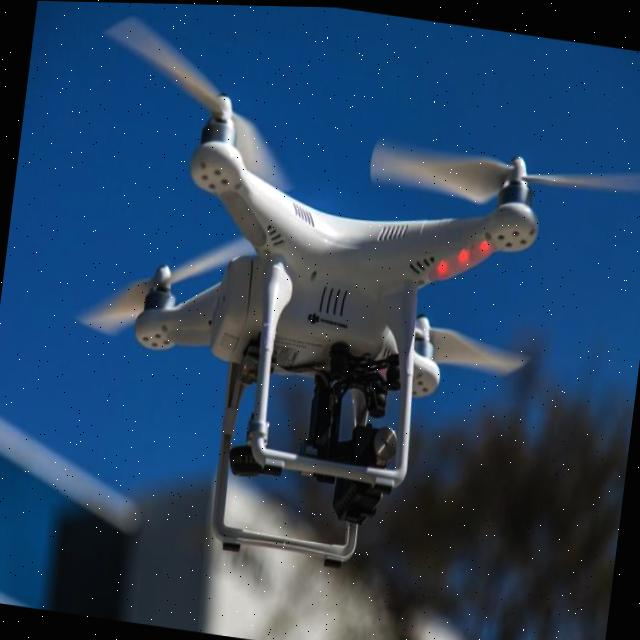drone: (85, 58, 560, 600)
